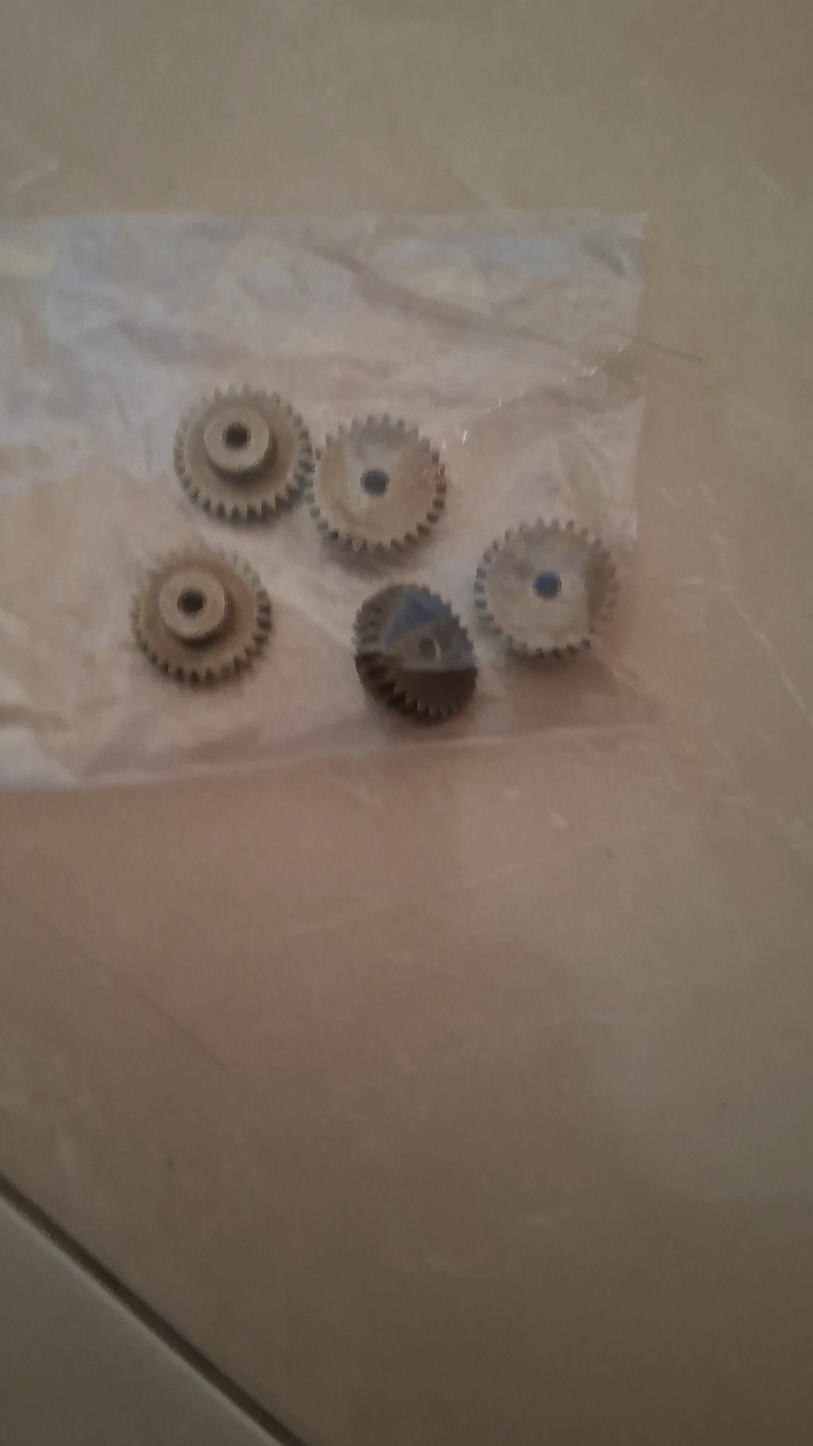spur gear: (475, 521, 615, 656), (307, 416, 445, 551), (131, 549, 271, 682), (174, 389, 313, 520), (354, 584, 477, 720)
